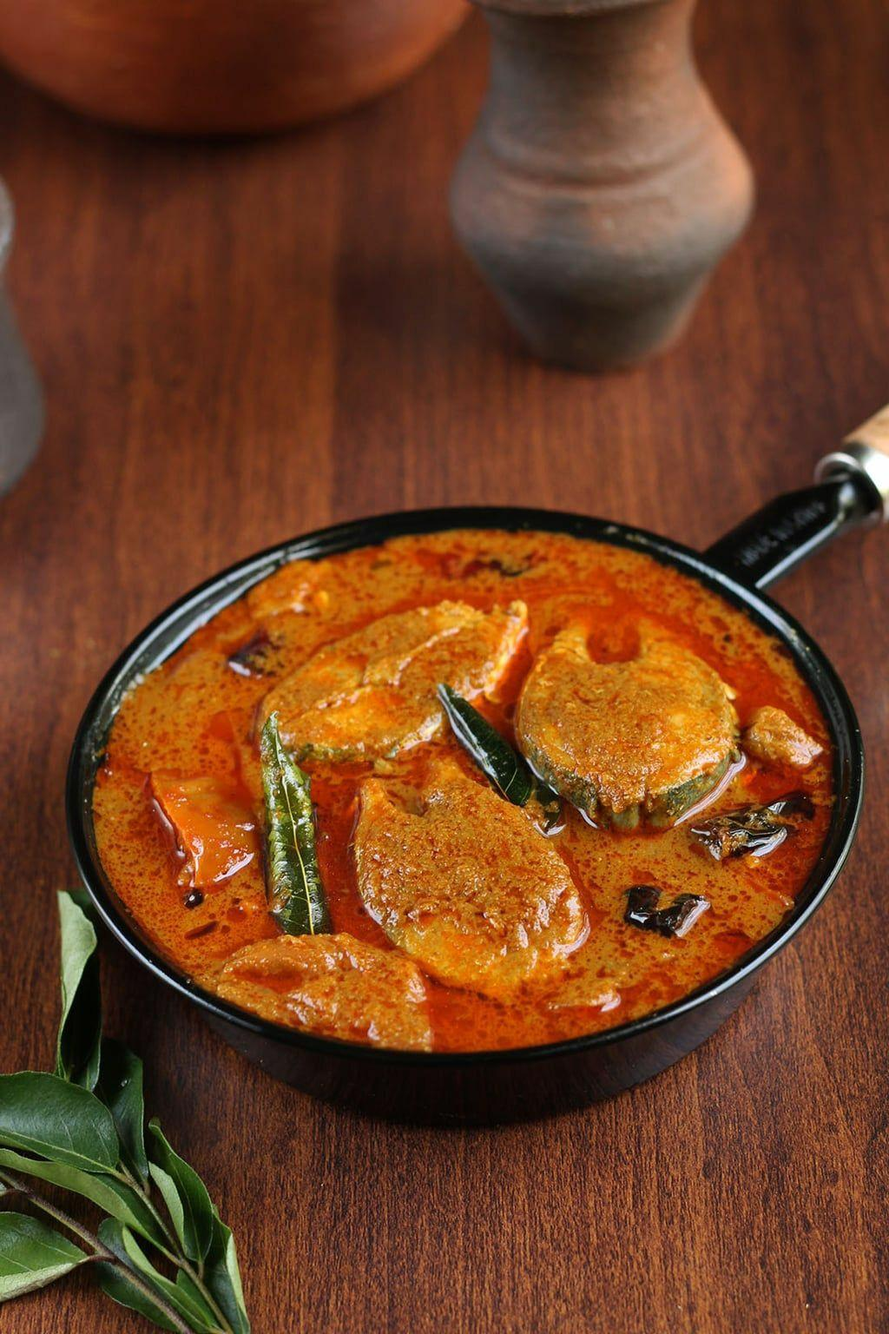FishCurry: (97, 519, 827, 1051)
